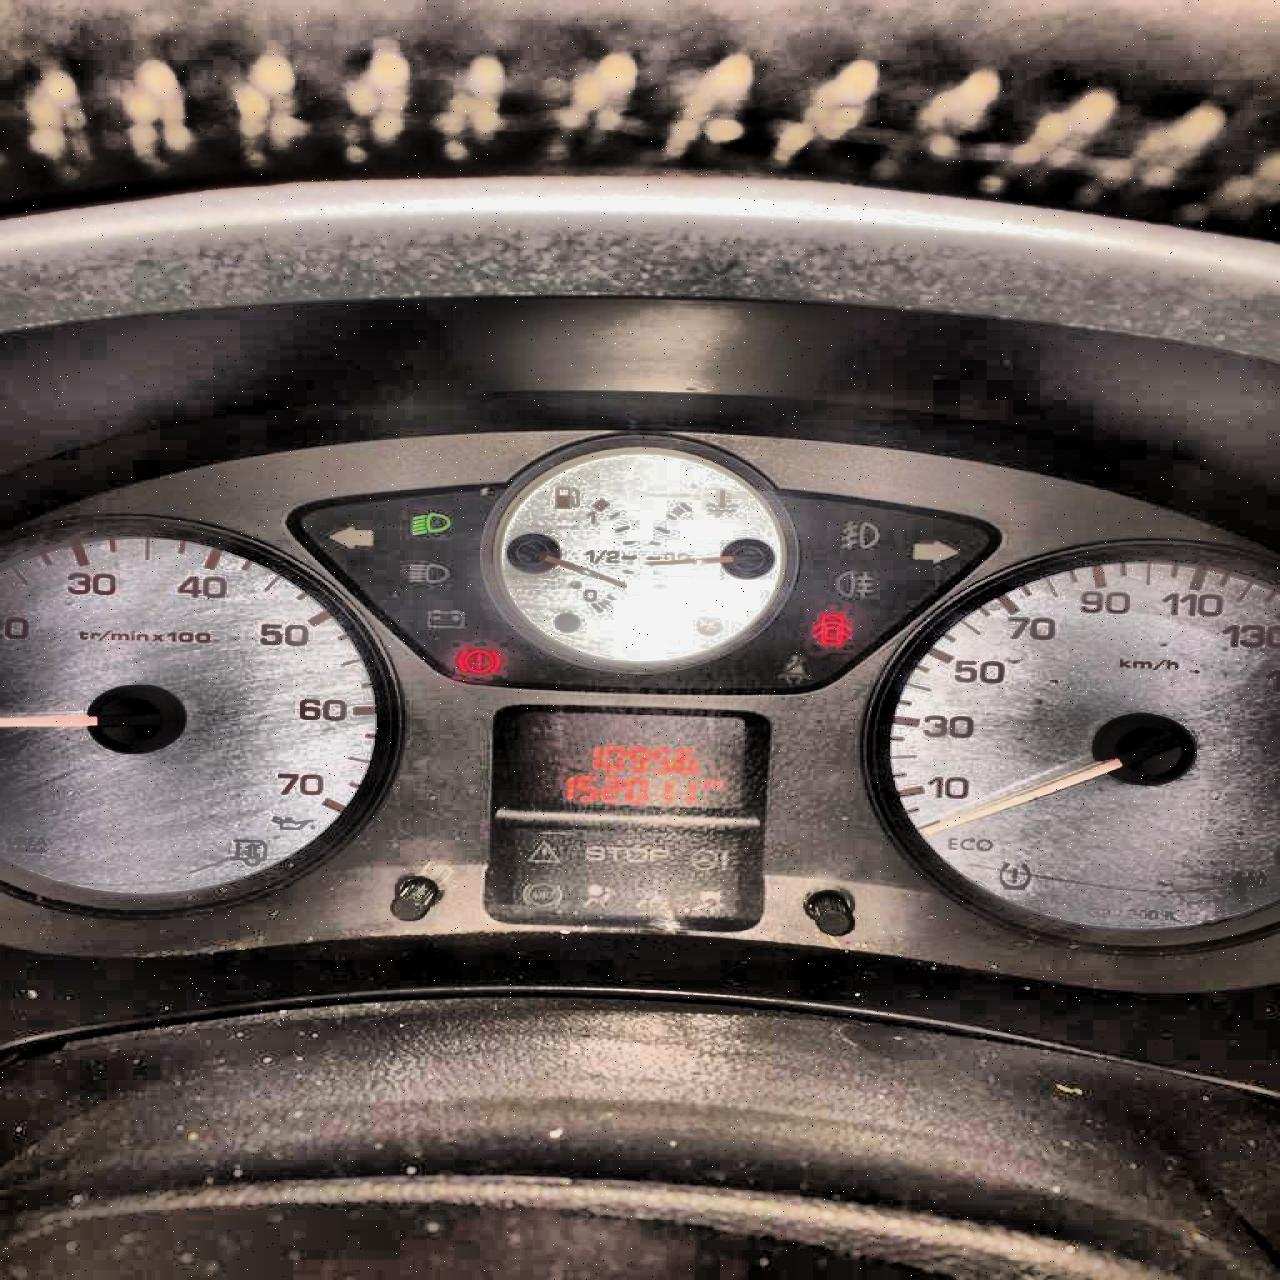0: (624, 776, 647, 803), (600, 745, 624, 770)
1: (590, 747, 600, 769), (661, 779, 672, 801), (687, 778, 695, 803), (565, 776, 573, 798)
2: (598, 776, 621, 802)
5: (576, 775, 597, 799), (651, 747, 670, 772)
6: (673, 747, 696, 772)
9: (626, 747, 647, 771)
X: (708, 778, 722, 788), (699, 777, 708, 788)
odometer: (505, 707, 748, 811)
